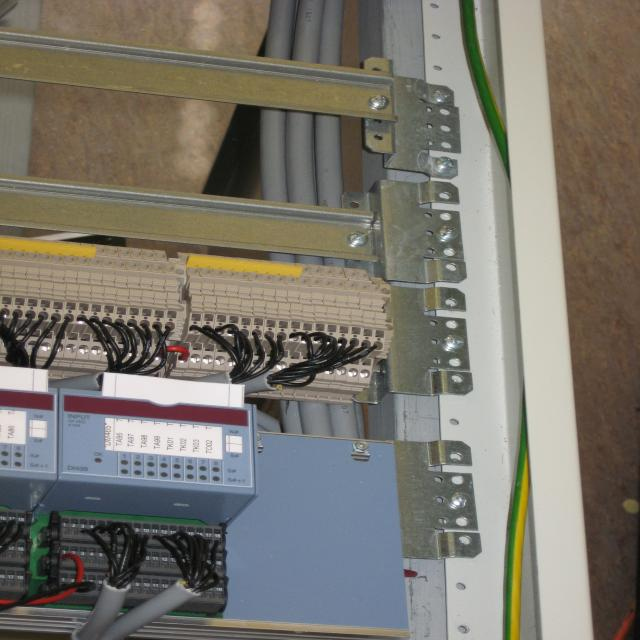SPS-System -Steuerungskomponente-: (58, 391, 258, 488), (0, 388, 58, 482)
